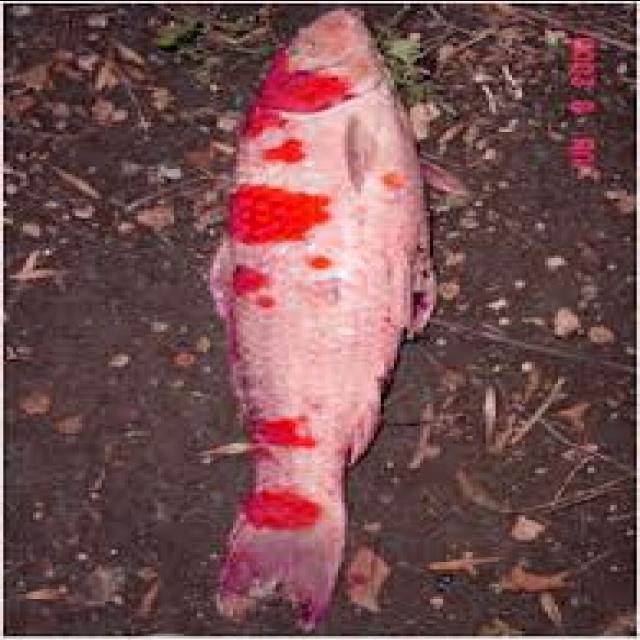EUS Disease: (206, 12, 447, 640), (230, 363, 342, 624), (237, 47, 410, 170), (227, 182, 351, 326), (369, 160, 418, 204)
